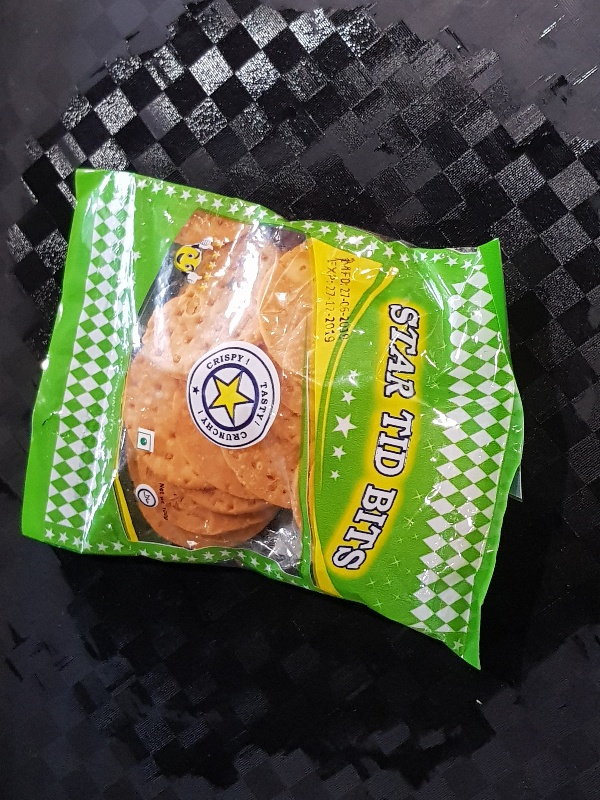Star Tidbits 'O' Ring: (19, 166, 528, 675)
